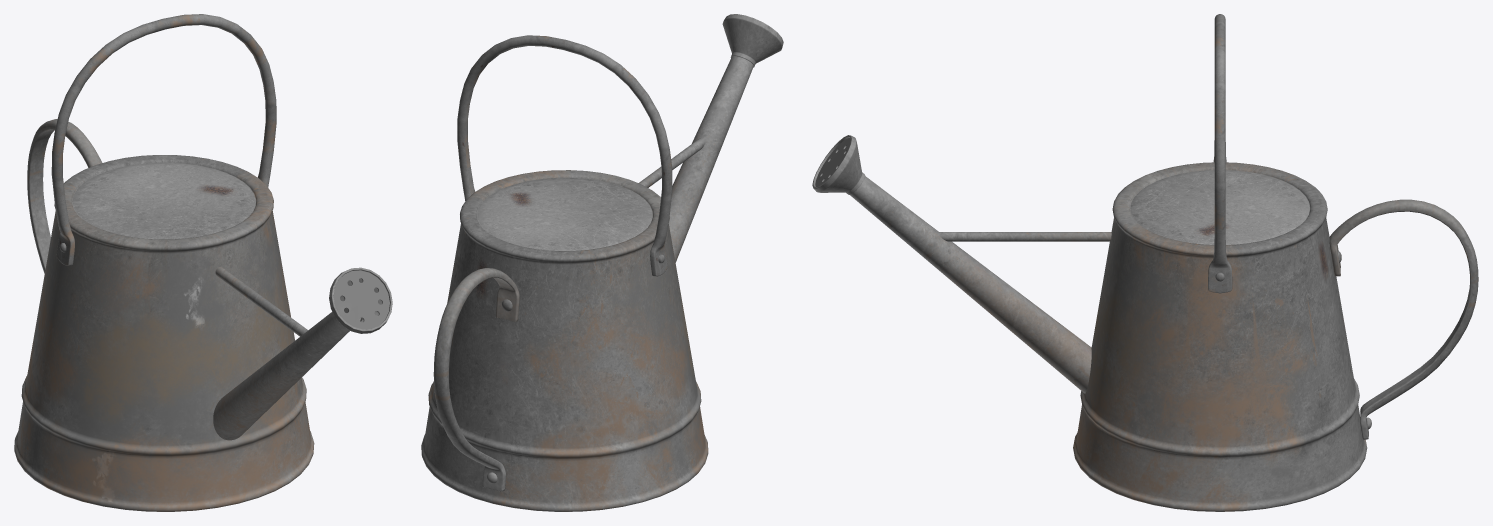
File: WateringCan.obj
3 views of the same model, side by side, from view 1: azimuth 30°, elevation 25°; view 2: azimuth 150°, elevation 25°; view 3: azimuth 270°, elevation 25° (orthographic). The views are drawn at different scales.
Parts seen in each view (by area): view 1: WateringCan:wateringCan; view 2: WateringCan:wateringCan; view 3: WateringCan:wateringCan.
Part boxes in pixels (x1,y1,x2,y2): WateringCan:wateringCan: [14, 14, 392, 511]; WateringCan:wateringCan: [421, 14, 783, 511]; WateringCan:wateringCan: [812, 14, 1478, 511].
Size of the model in its own units: 33.58 by 53.12 by 76.07.
Materials: 1 (1 with a texture image).
